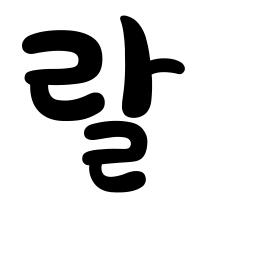gaji: (116, 51, 162, 86)
